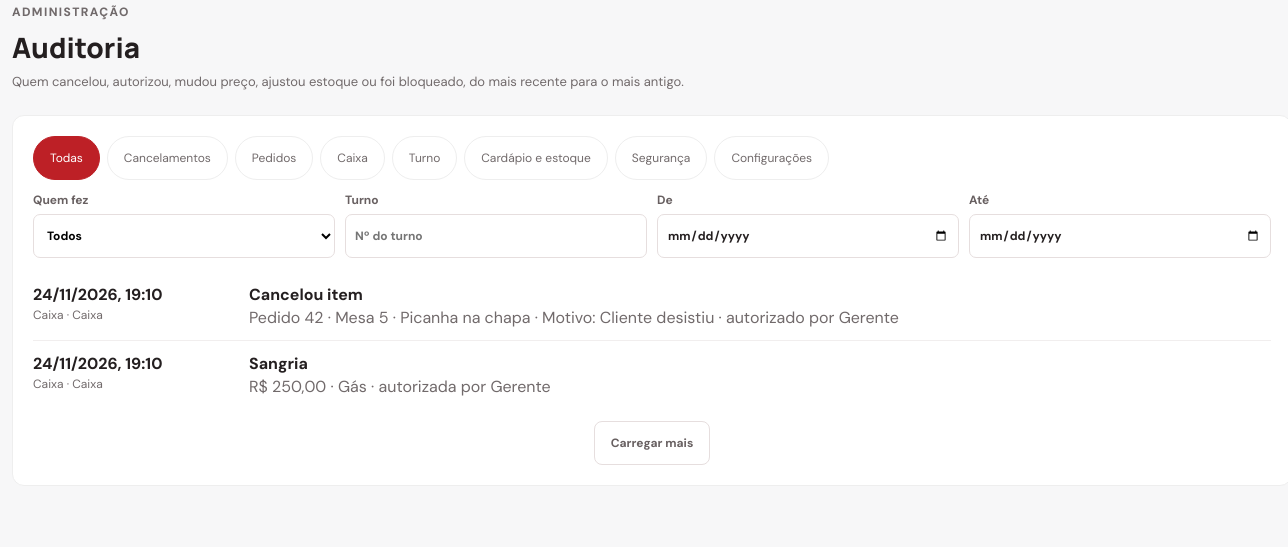
Test: Tela de auditoria (RN-20, spec 017) › lista os registros com resumo legível e "Carregar mais" acrescenta a próxima página
Check: the heading "Auditoria" is shown, box [12,28,140,66]
What coordinates should you click on to do the following:
click the button "Carregar mais"
I would click on:
 (652, 443)
Its box is [594,421,710,465].
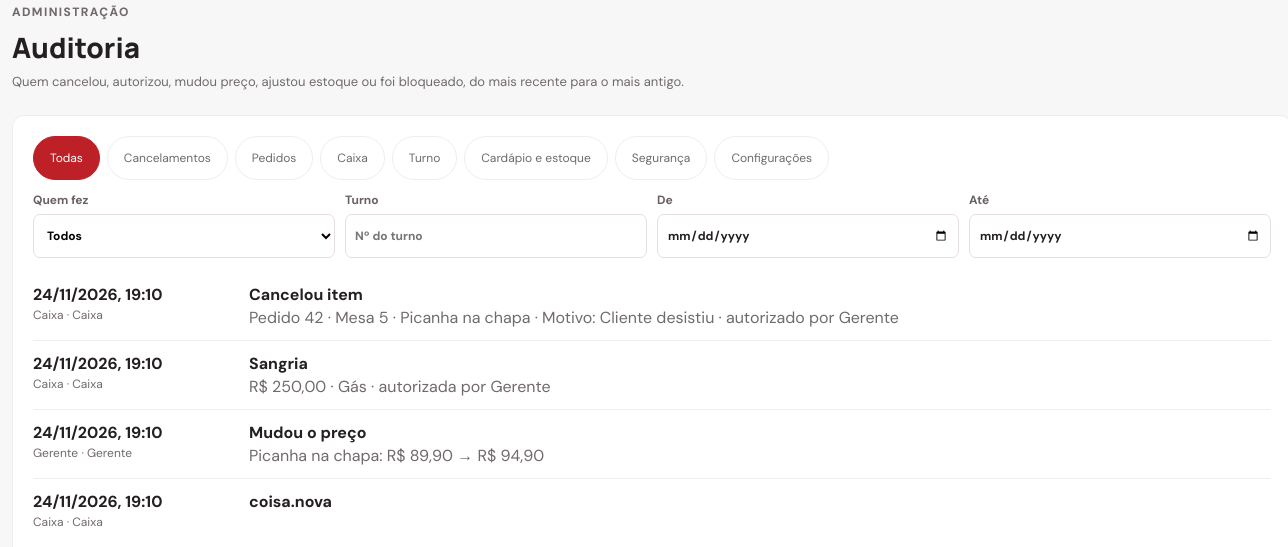
Check: the number of list items is 4, box [33,272,1271,341]; [33,341,1271,410]; [33,410,1271,479]; [33,491,332,530]
Check: the list item "24/11/2026, 19:10 Caixa · Caixa coisa.nova" is shown, box [33,491,332,530]
Check: the button "Carregar mais" is gone
